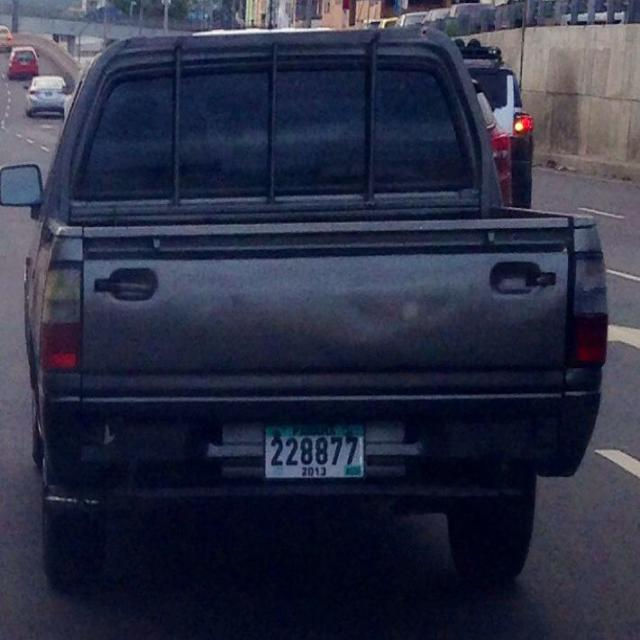Placas: (264, 420, 366, 482)
